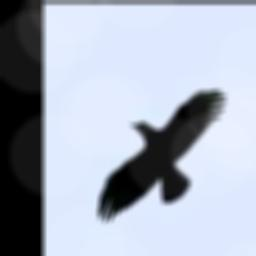Crow: (96, 89, 226, 222)
